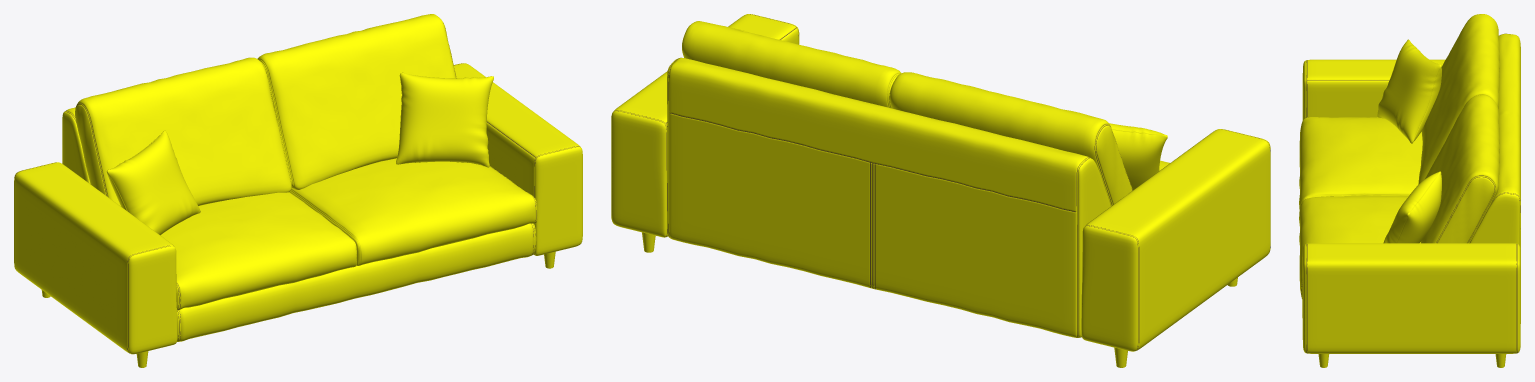
3 renders of one model, left to right at view 1: azimuth 30°, elevation 25°; view 2: azimuth 150°, elevation 25°; view 3: azimuth 270°, elevation 25°, orthographic. The views are drawn at different scales.
Parts seen in each view (by area): view 1: bodybrown32, left32, rightarm32; view 2: bodybrown32, left32, rightarm32; view 3: bodybrown32, rightarm32, left32, woodleg32.
Boxes of the visible parts, x1,y1,x2,y2 form: bodybrown32: (62, 14, 537, 341); left32: (14, 162, 177, 354); rightarm32: (453, 63, 582, 255); bodybrown32: (667, 21, 1169, 337); left32: (1081, 129, 1270, 351); rightarm32: (611, 14, 799, 237); bodybrown32: (1299, 14, 1520, 323); rightarm32: (1302, 243, 1520, 353); left32: (1302, 59, 1445, 120); woodleg32: (1318, 354, 1506, 367).
Bounding box in the file's own units: 2.04 × 0.8468 × 0.9321.
9 materials, 6 textured.
